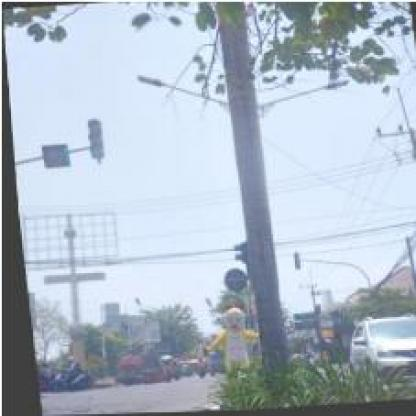green: (82, 118, 101, 160)
